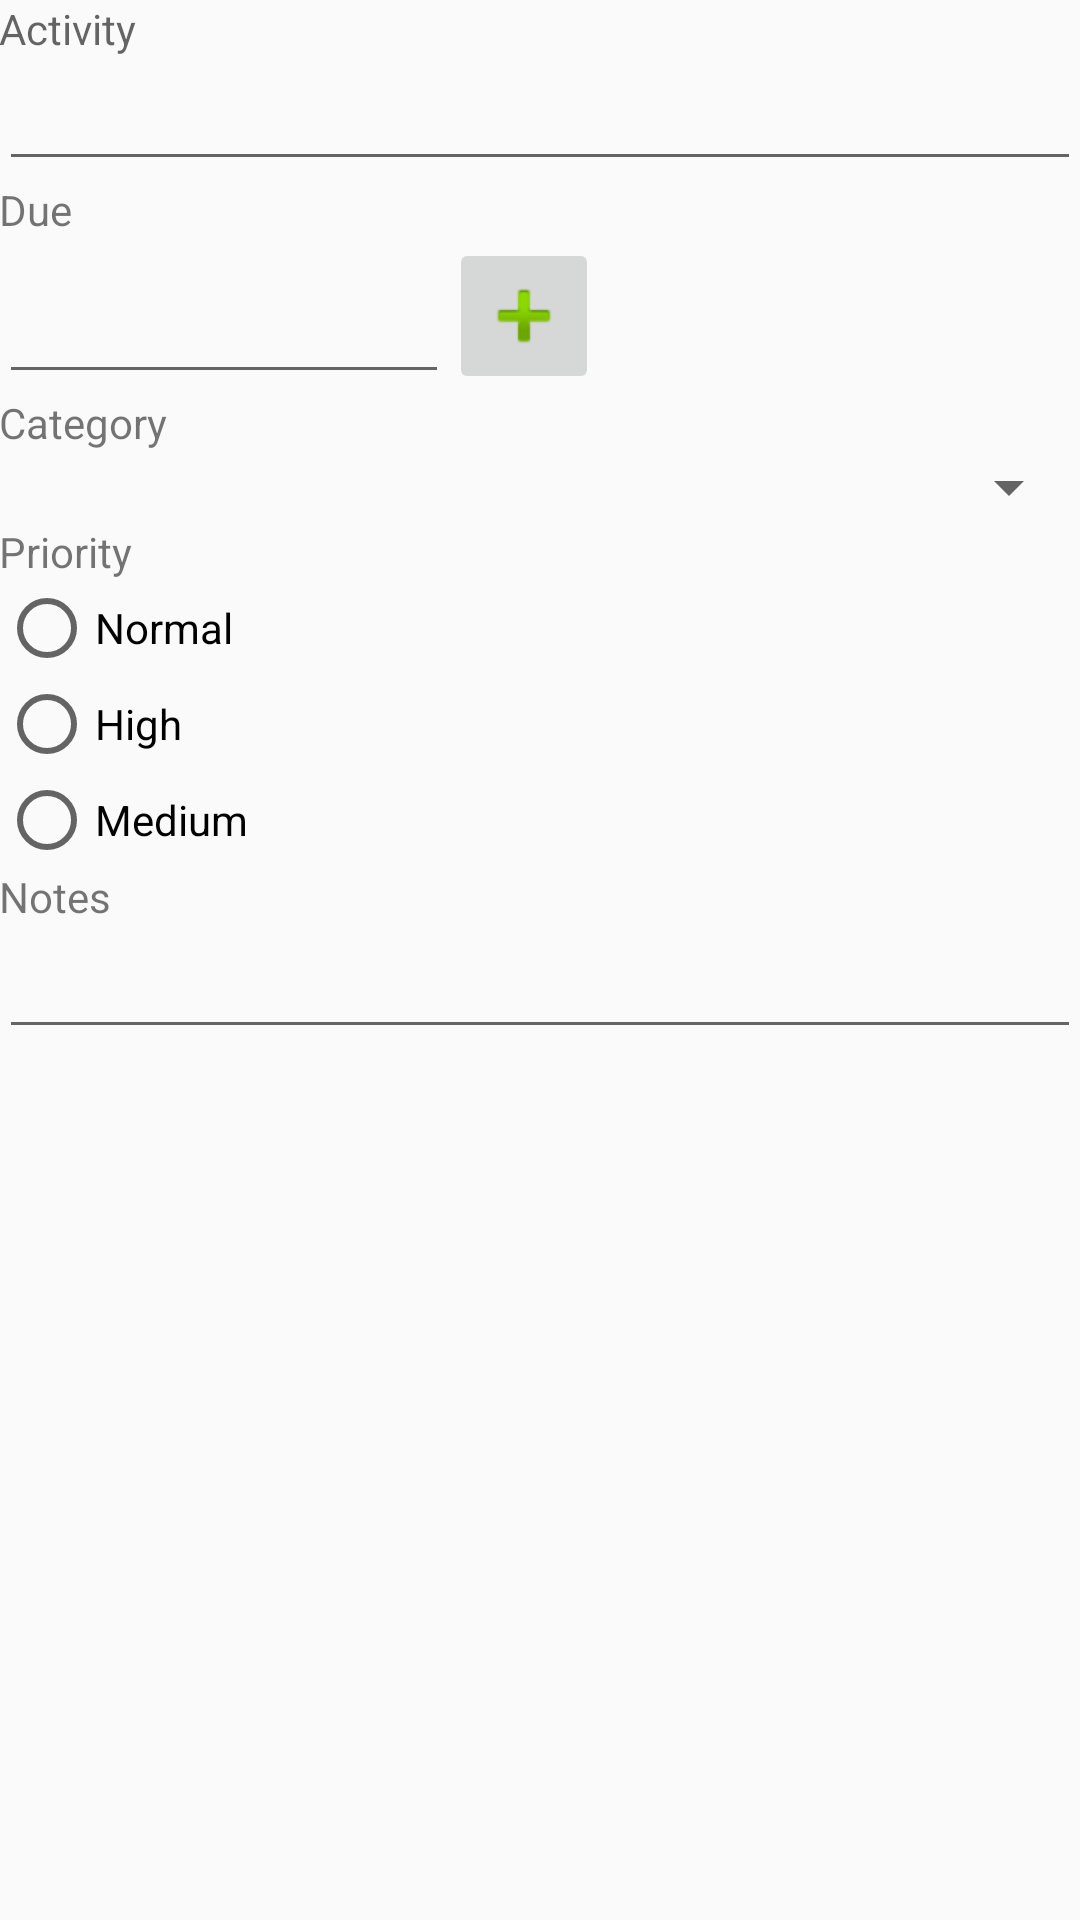

Where icons sit on this 1080*1920 app screen, as (x1, y1, x2, y2):
add: (461, 256, 587, 376)
